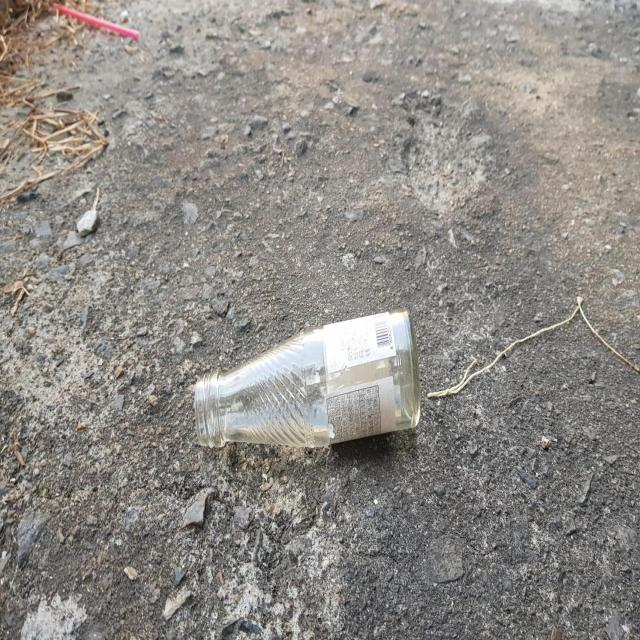glass: (194, 310, 421, 447)
